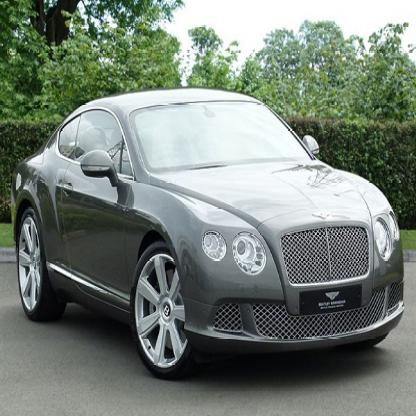Vehicle: (12, 88, 404, 378)
